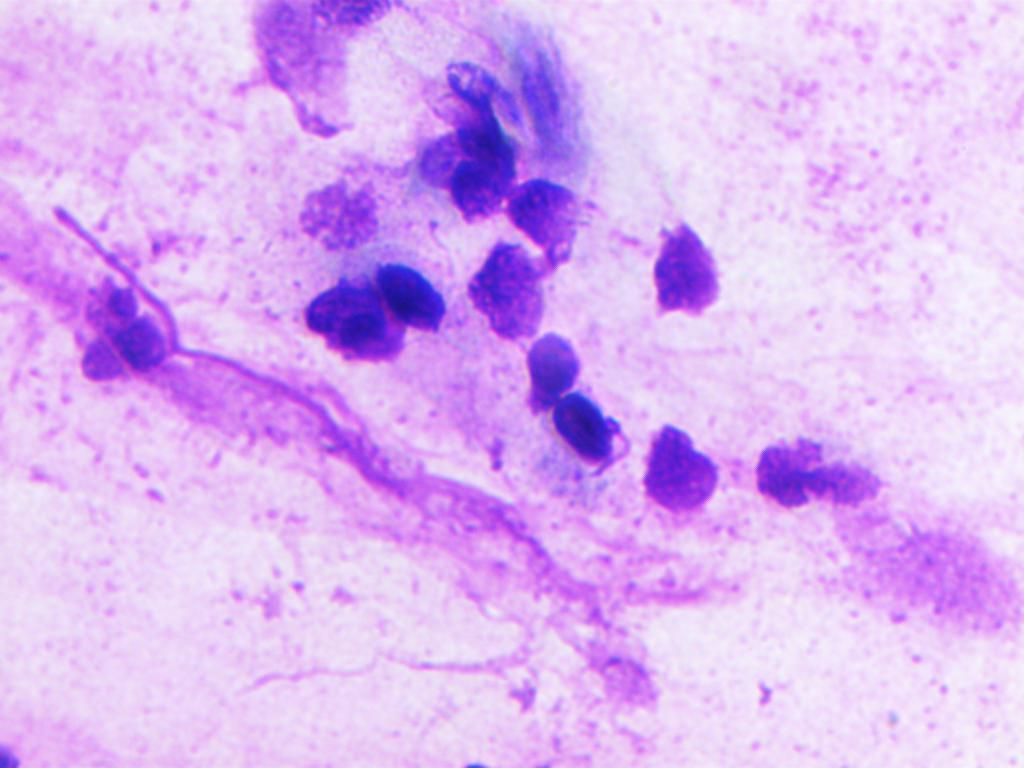artifact: (458, 235, 559, 343)
epithelial: (640, 402, 735, 548), (747, 419, 890, 510), (642, 211, 736, 330), (296, 152, 385, 253)
metaplastic: (378, 256, 449, 336)
neutrophil: (469, 333, 636, 507), (411, 105, 517, 225), (292, 266, 403, 371), (516, 163, 617, 270), (70, 285, 171, 385)
